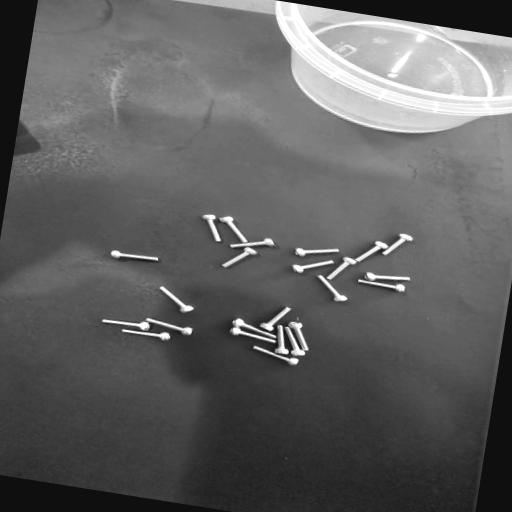Bolt: (160, 287, 194, 313), (253, 346, 298, 365), (233, 319, 276, 338), (146, 318, 192, 335), (317, 276, 347, 301), (230, 327, 276, 343), (260, 308, 291, 331), (219, 217, 247, 242), (355, 241, 388, 262), (327, 257, 357, 280), (223, 248, 257, 267), (383, 234, 412, 255), (285, 327, 305, 356), (358, 280, 405, 292), (289, 322, 308, 351), (292, 260, 334, 273), (111, 250, 159, 261), (122, 330, 170, 341), (102, 320, 149, 331), (202, 215, 221, 242), (275, 326, 289, 355), (230, 239, 274, 248), (295, 248, 338, 257), (365, 273, 410, 281)
